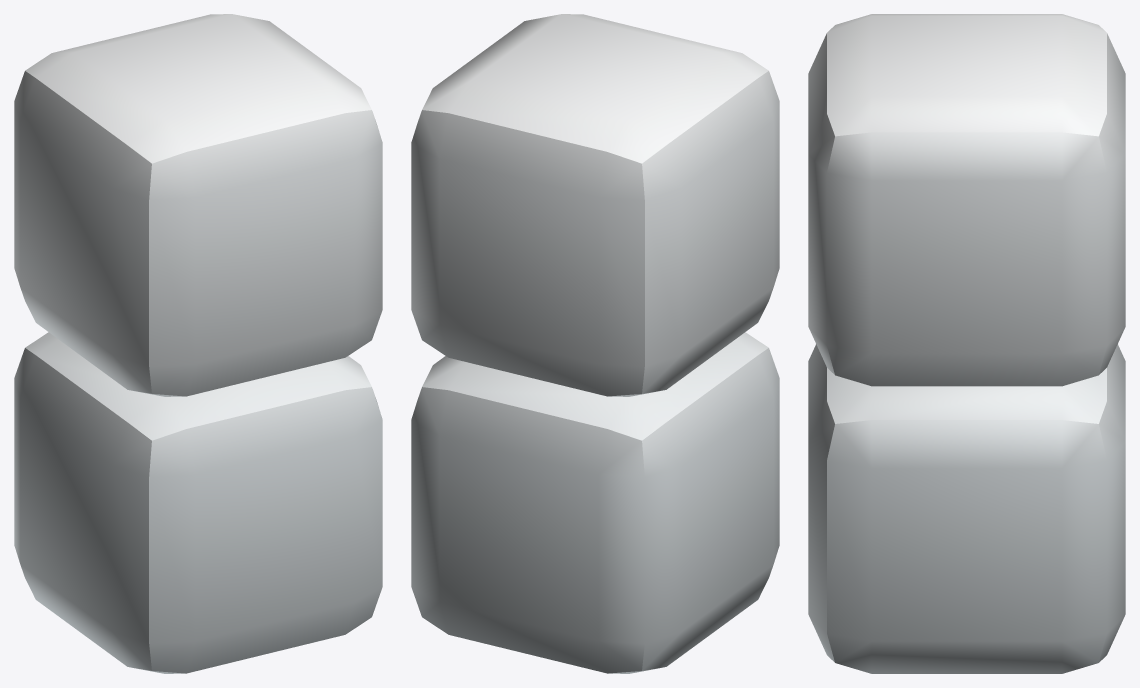
File: barrier_1x1x2.glb
3 renders of one model, left to right at view 1: azimuth 30°, elevation 25°; view 2: azimuth 150°, elevation 25°; view 3: azimuth 270°, elevation 25°, orthographic. The views are drawn at different scales.
Visible parts, largest first — view 1: barrier_1x1x2; view 2: barrier_1x1x2; view 3: barrier_1x1x2.
Boxes of the visible parts, left/top/right/bottom form: barrier_1x1x2: left=14, top=14, right=382, bottom=673; barrier_1x1x2: left=411, top=14, right=779, bottom=673; barrier_1x1x2: left=808, top=14, right=1125, bottom=673.
Size of the model in its own units: 1 by 2 by 1.
1 material, 1 textured.
